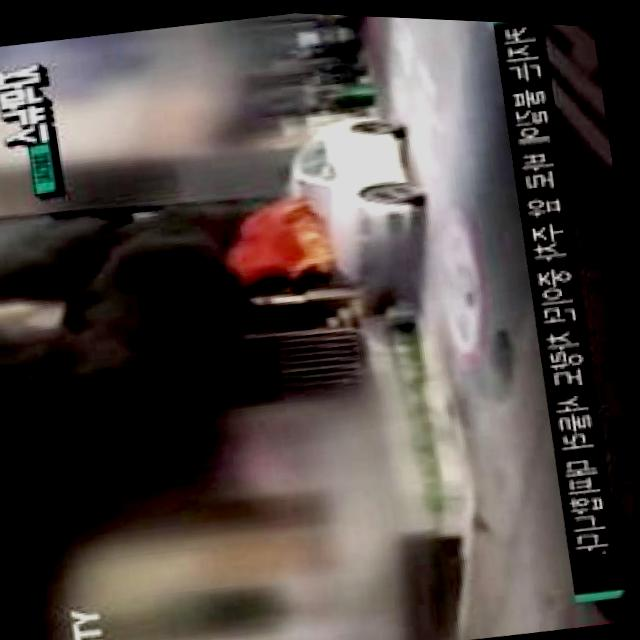Fire: (228, 200, 332, 281)
